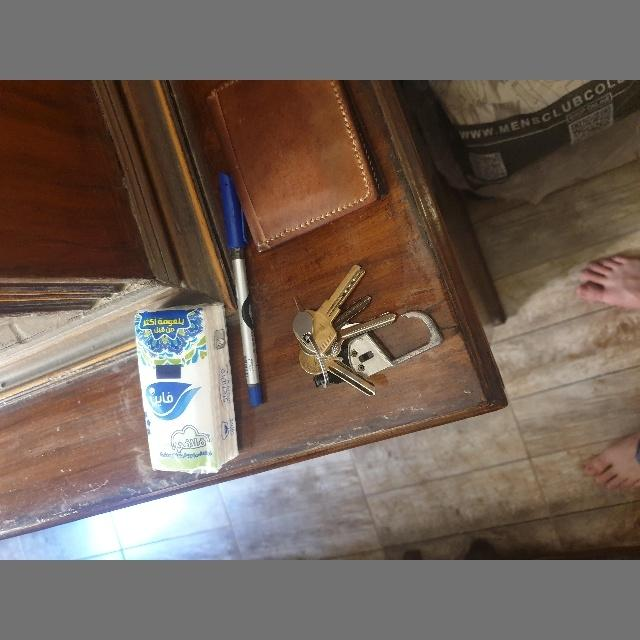Keys: (290, 264, 444, 396)
